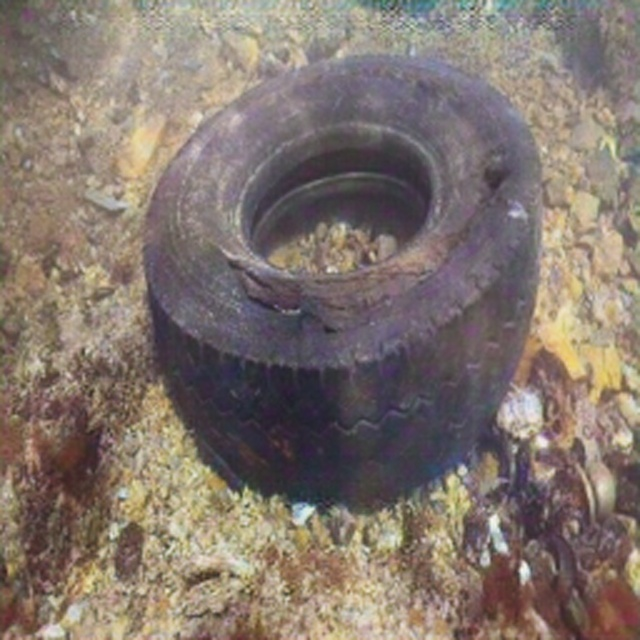mine: (143, 52, 542, 510)
